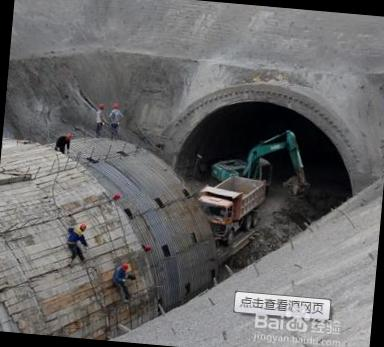person: (60, 219, 94, 269), (109, 256, 142, 306), (106, 98, 128, 142), (92, 100, 109, 140), (53, 132, 78, 157)
